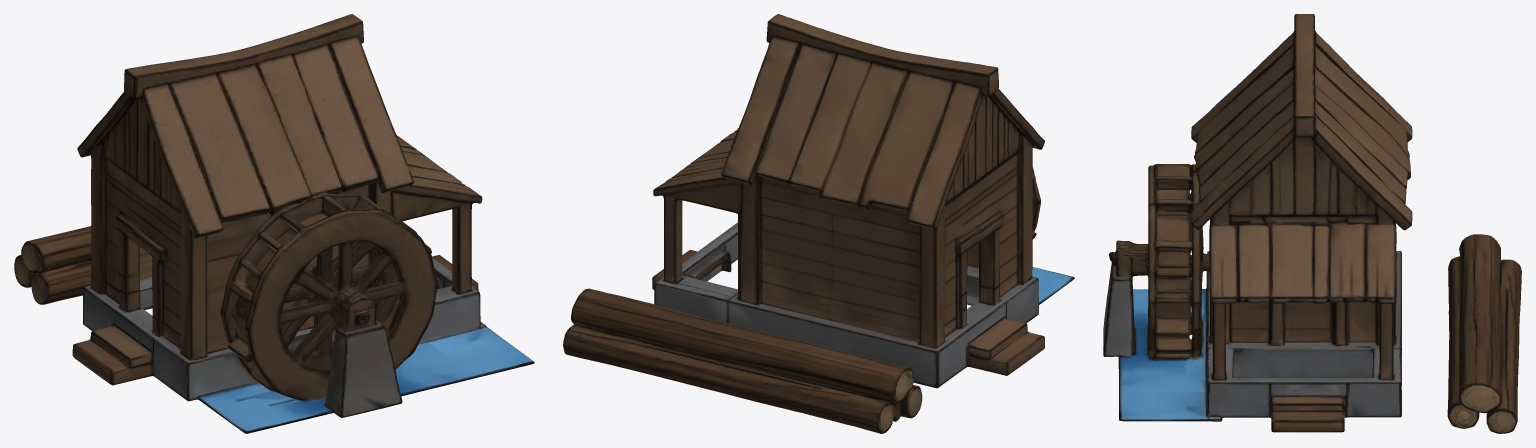
Rendered from lumberMill.glb.
3 views of the same model, side by side, from view 1: azimuth 30°, elevation 25°; view 2: azimuth 150°, elevation 25°; view 3: azimuth 270°, elevation 25° (orthographic). The views are drawn at different scales.
Visible parts, largest first — view 1: world; view 2: world; view 3: world.
Boxes of the visible parts, bbox=[...] form: world: bbox=[14, 14, 534, 433]; world: bbox=[563, 14, 1074, 433]; world: bbox=[1103, 14, 1521, 433].
Size of the model in its own units: 0.9383 by 0.7284 by 1.
Materials: 1 (1 with a texture image).
